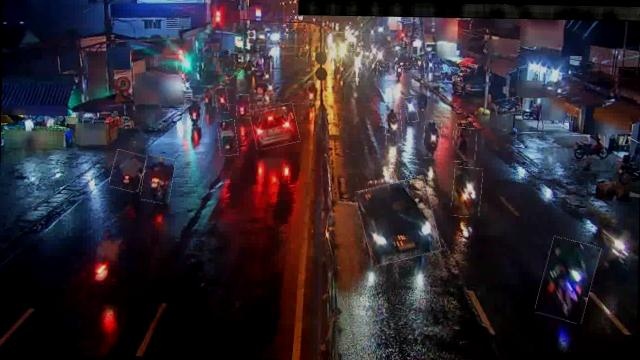Bike: (538, 238, 596, 322), (79, 221, 124, 299), (142, 155, 174, 203), (452, 166, 482, 217), (110, 150, 146, 191), (568, 135, 604, 160), (452, 128, 477, 162), (383, 102, 402, 144), (218, 120, 238, 156), (422, 122, 440, 158), (182, 99, 204, 127), (494, 98, 520, 115), (404, 96, 418, 122), (215, 88, 228, 113), (237, 94, 250, 118), (418, 88, 428, 116), (200, 86, 213, 106), (307, 82, 318, 105)
Car: (358, 178, 438, 263), (250, 104, 300, 148)
